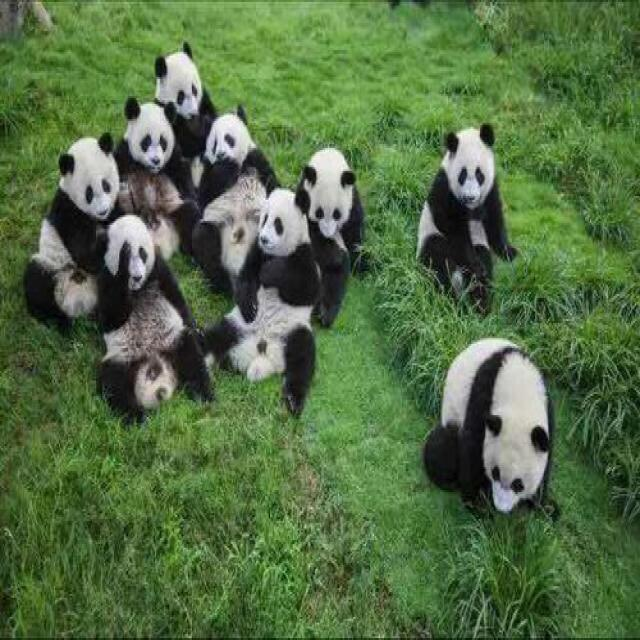panda: (23, 38, 369, 426), (415, 335, 567, 528), (411, 120, 524, 324)
